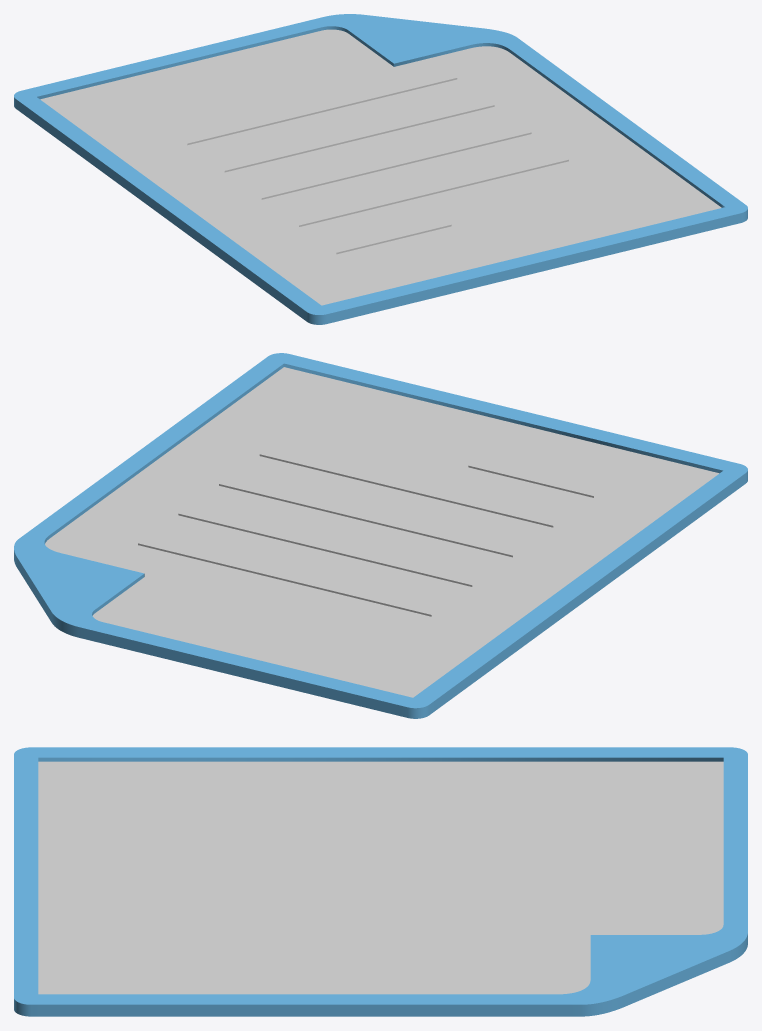
Rendered from emoji_u1f4c4.glb.
The picture shows the model from 3 angles, top to bottom: view 1: azimuth 30°, elevation 25°; view 2: azimuth 150°, elevation 25°; view 3: azimuth 270°, elevation 25°; orthographic projection. The views are drawn at different scales.
Visible parts, largest first — view 1: emoji_u1f4c4; view 2: emoji_u1f4c4; view 3: emoji_u1f4c4.
Boxes of the visible parts, x1,y1,x2,y2 form: emoji_u1f4c4: (14,14,747,324); emoji_u1f4c4: (14,353,747,718); emoji_u1f4c4: (14,747,747,1016).
Size of the model in its own units: 0.028 by 0.0006 by 0.0338.
